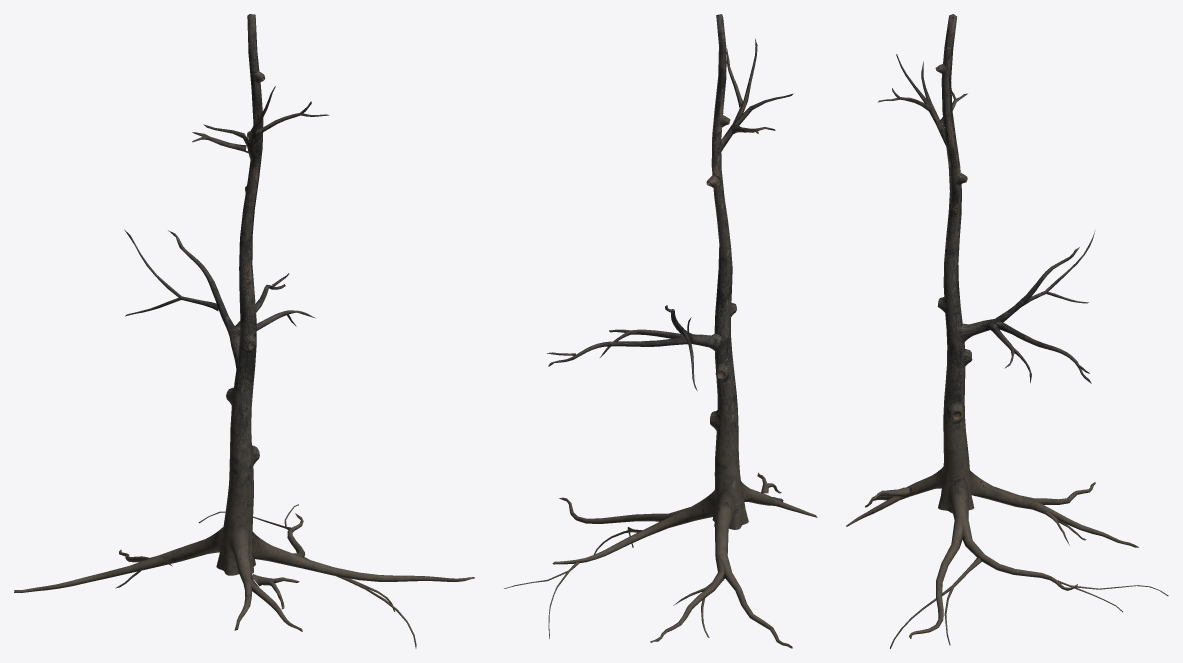
Rendered from SM_TreeBattlefield01.glb.
The picture shows the model from 3 angles, left to right: view 1: azimuth 30°, elevation 25°; view 2: azimuth 150°, elevation 25°; view 3: azimuth 270°, elevation 25°; orthographic projection. The views are drawn at different scales.
Parts seen in each view (by area): view 1: SM_TreeBattlefield01; view 2: SM_TreeBattlefield01; view 3: SM_TreeBattlefield01.
Boxes of the visible parts, x1,y1,x2,y2 form: SM_TreeBattlefield01: (14,14,474,648); SM_TreeBattlefield01: (504,14,817,648); SM_TreeBattlefield01: (846,14,1168,648).
Size of the model in its own units: 3.75 by 6.41 by 3.25.
1 material, 1 textured.
